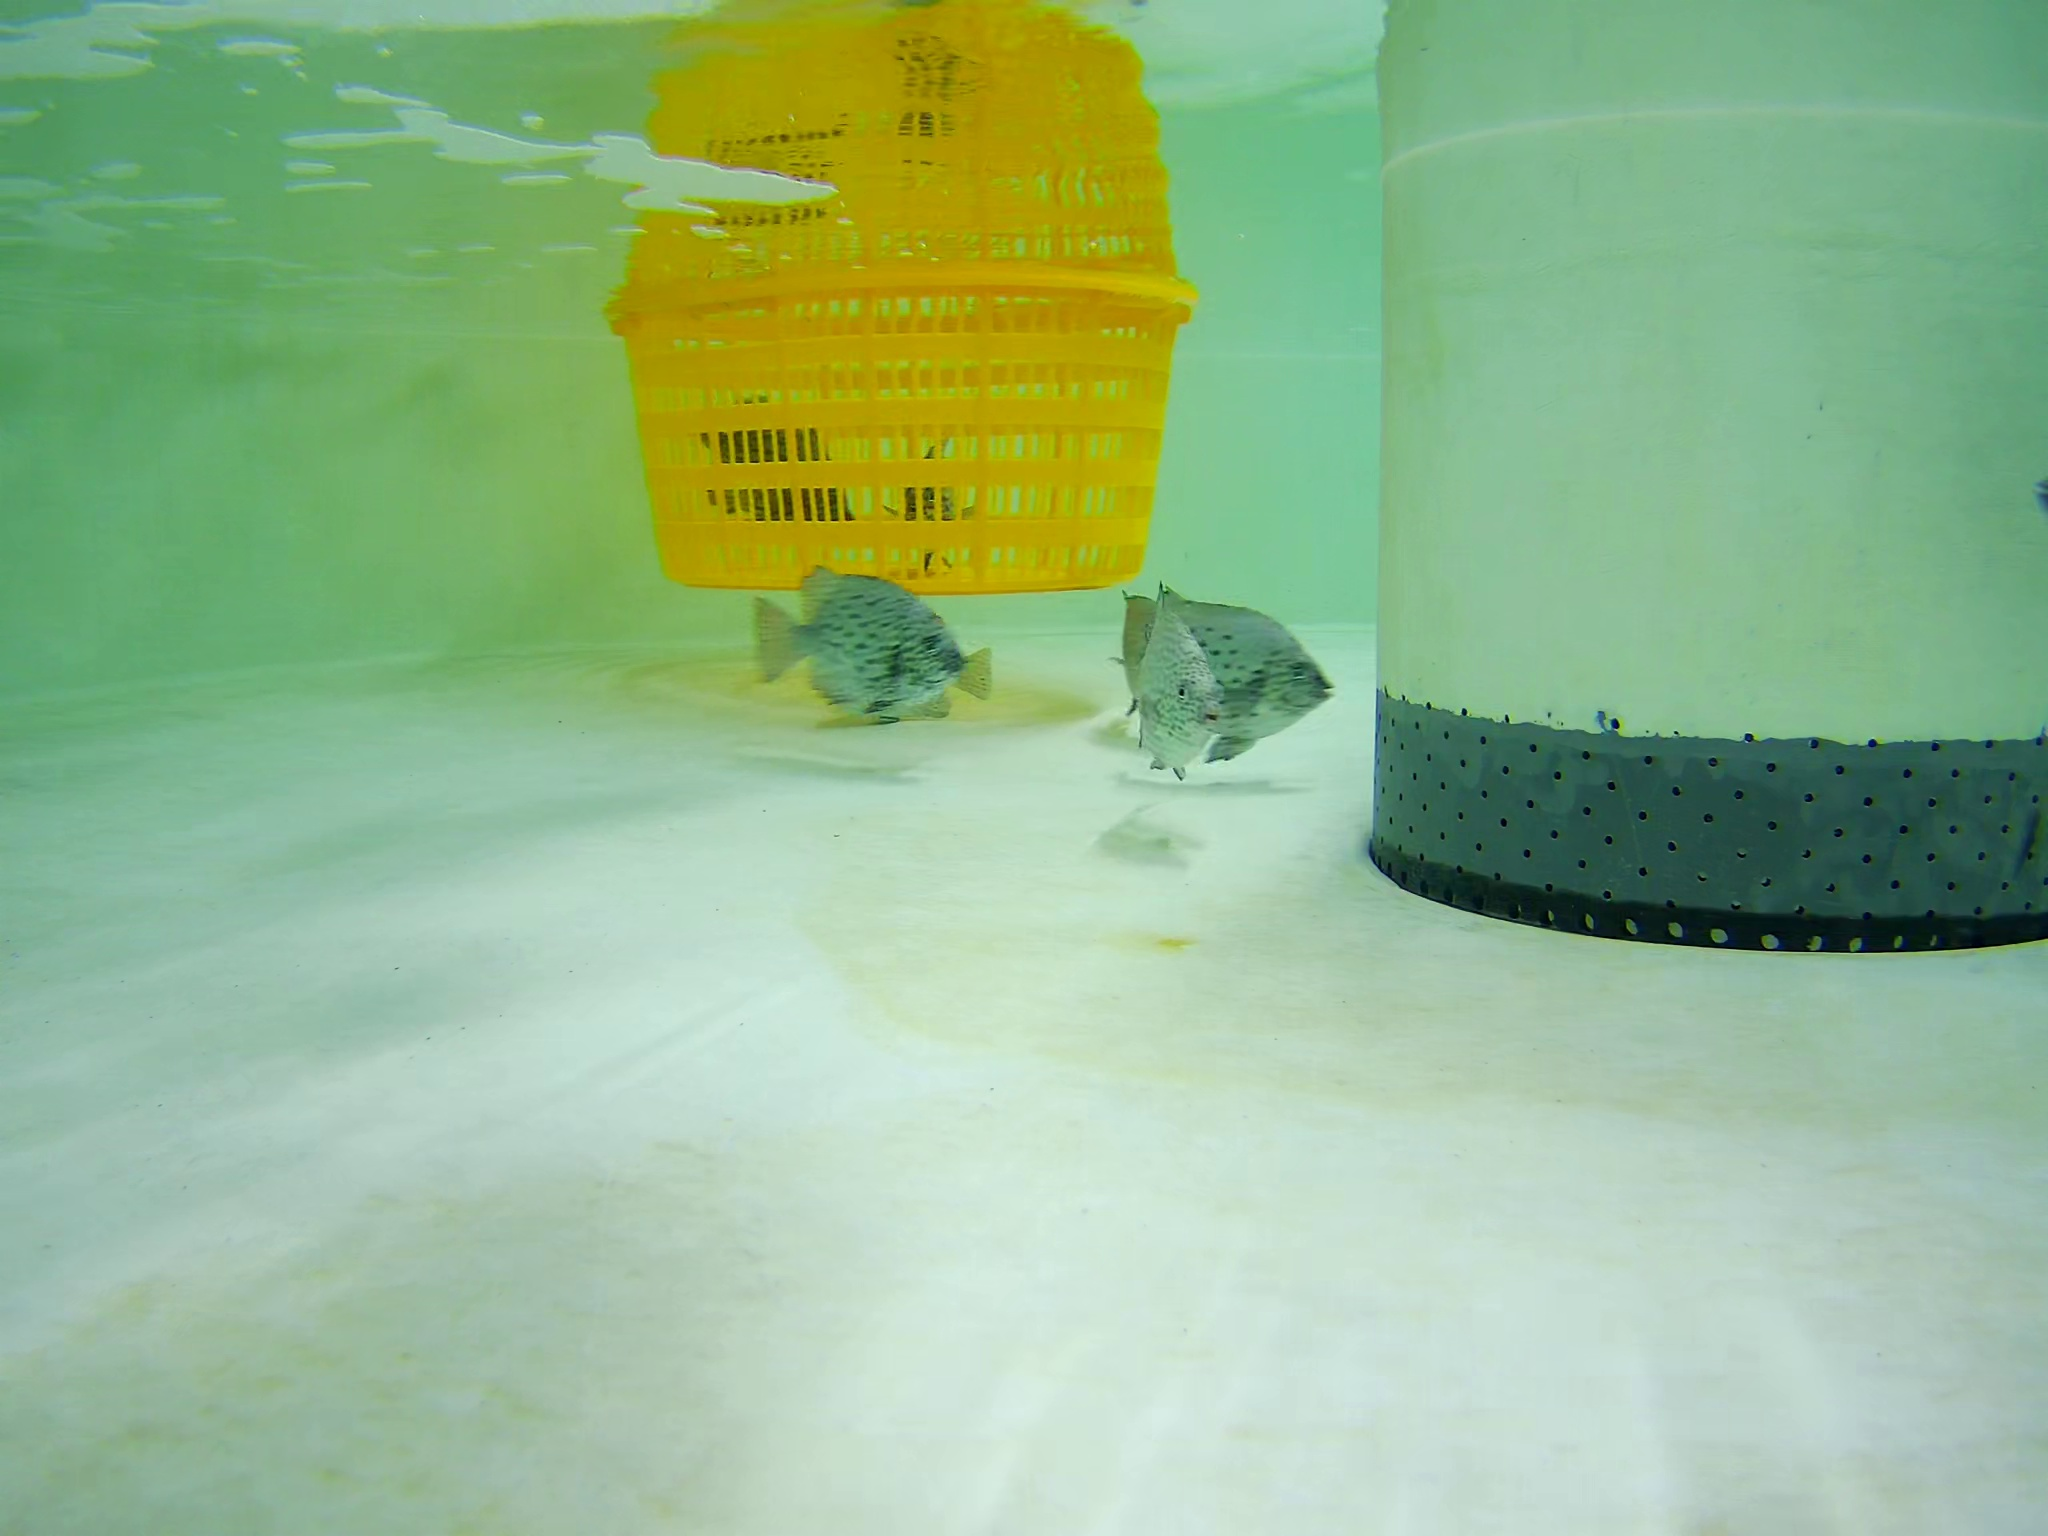fish: (1142, 582, 1329, 758), (755, 566, 971, 718), (710, 392, 860, 582), (1130, 597, 1235, 778), (880, 418, 979, 608), (860, 636, 998, 724), (1116, 584, 1176, 710)
